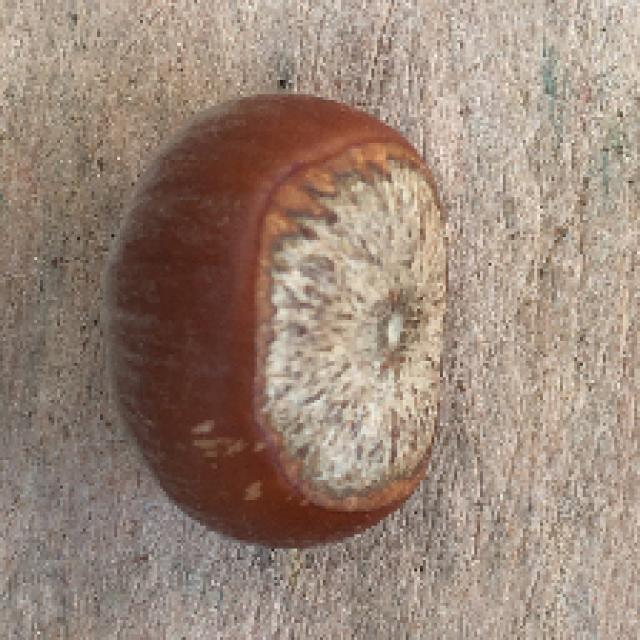qualityHazelnut: (95, 91, 454, 557)
